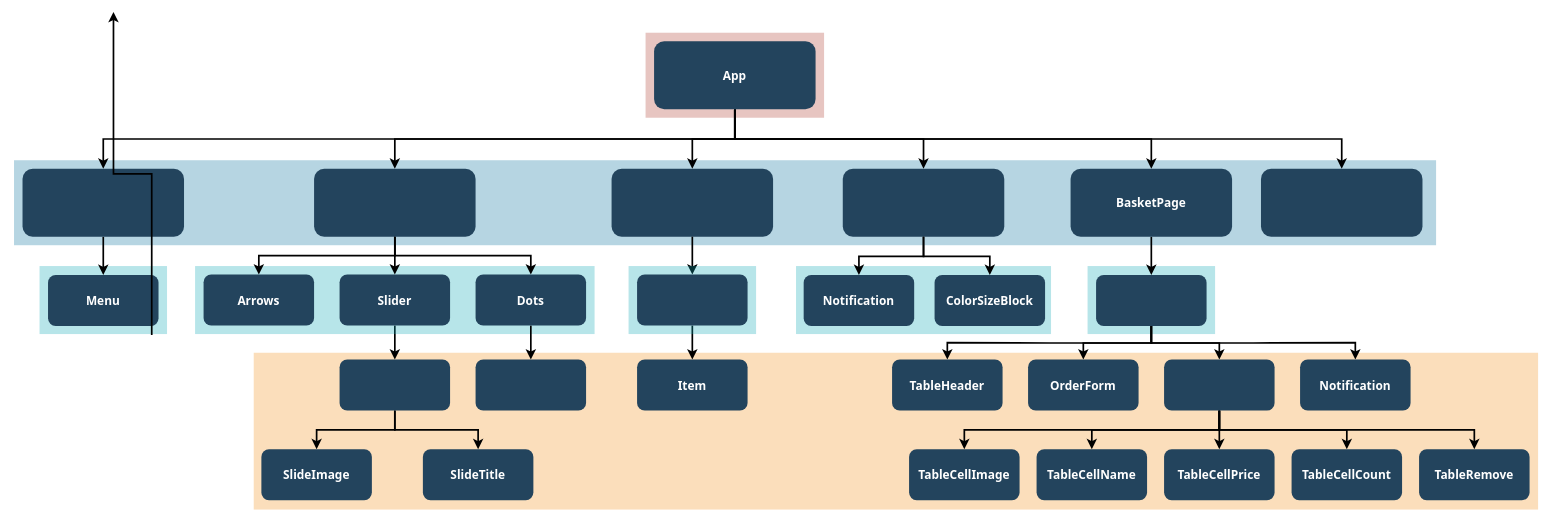
The diagram is 1552 pixels wide and 524 high, and some of its shapes have lost their labels. The shapes that lost their labels are listed below. From the top down, each one's box as (x1, y1, x2, y2) in pixels, then its label:
(22, 168, 184, 236): Header
(314, 168, 475, 236): MainPage
(611, 168, 773, 236): FilteredPage
(842, 168, 1004, 236): ItemPage
(1261, 168, 1422, 236): ContactsPage
(637, 274, 747, 325): ItemList
(1096, 275, 1206, 326): BasketTable
(339, 359, 450, 410): Slide
(475, 359, 586, 410): Dot
(1164, 359, 1274, 410): TableRow
